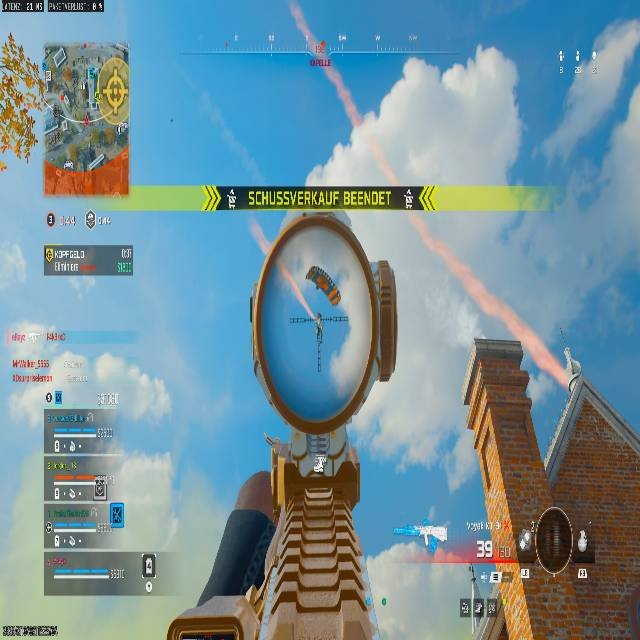head: (402, 58, 430, 83)
